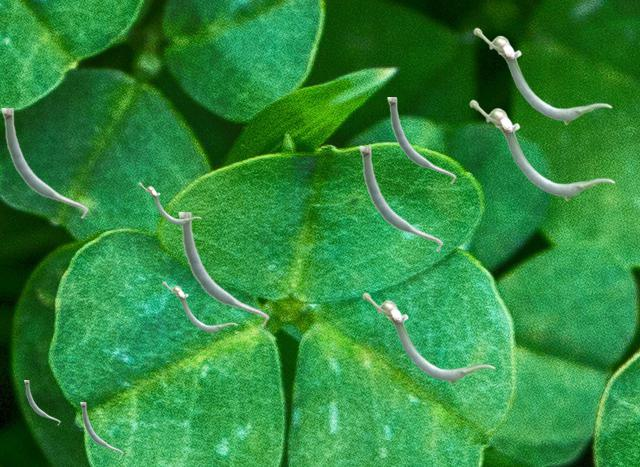french_bean: (469, 99, 614, 200), (473, 27, 611, 124), (362, 292, 494, 384), (178, 212, 268, 326), (1, 108, 87, 218), (359, 146, 442, 251), (387, 97, 455, 183), (162, 281, 236, 333), (138, 182, 200, 225), (80, 402, 122, 456), (24, 380, 59, 424)
